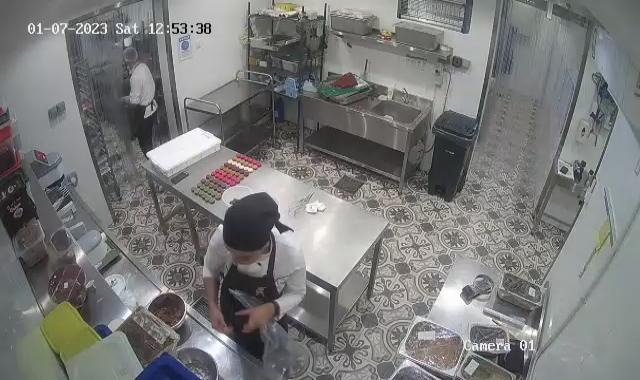hairnet: (122, 47, 140, 71)
no_hairnet: (224, 191, 277, 255)
